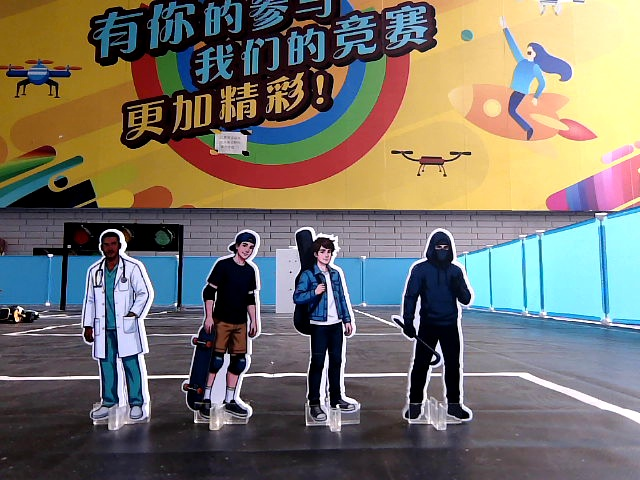community_person: (73, 218, 162, 433), (283, 223, 372, 438), (181, 224, 270, 437)
outsider: (390, 223, 486, 435)
